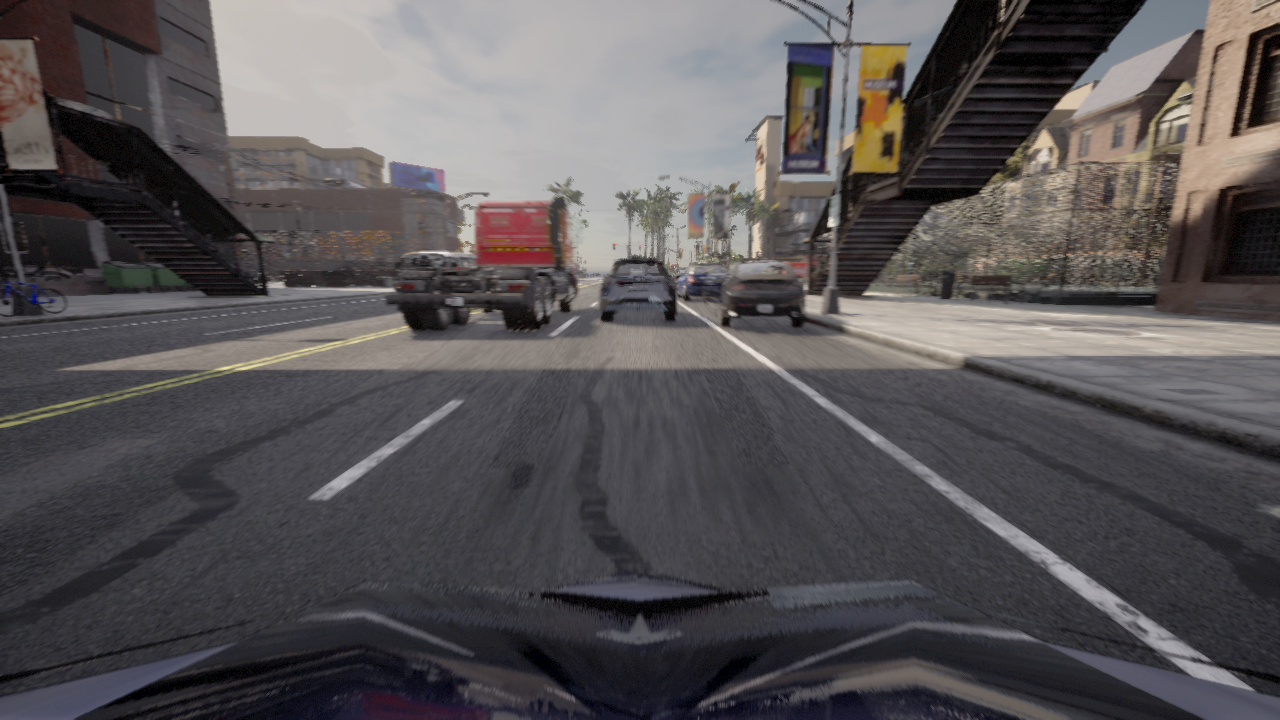cyclist: (0, 569, 1279, 719), (385, 195, 582, 329), (713, 260, 804, 327), (600, 257, 676, 321), (0, 274, 66, 316), (396, 250, 476, 279), (677, 263, 727, 300), (783, 262, 816, 280), (670, 269, 685, 289), (253, 273, 277, 282), (277, 274, 281, 281)
